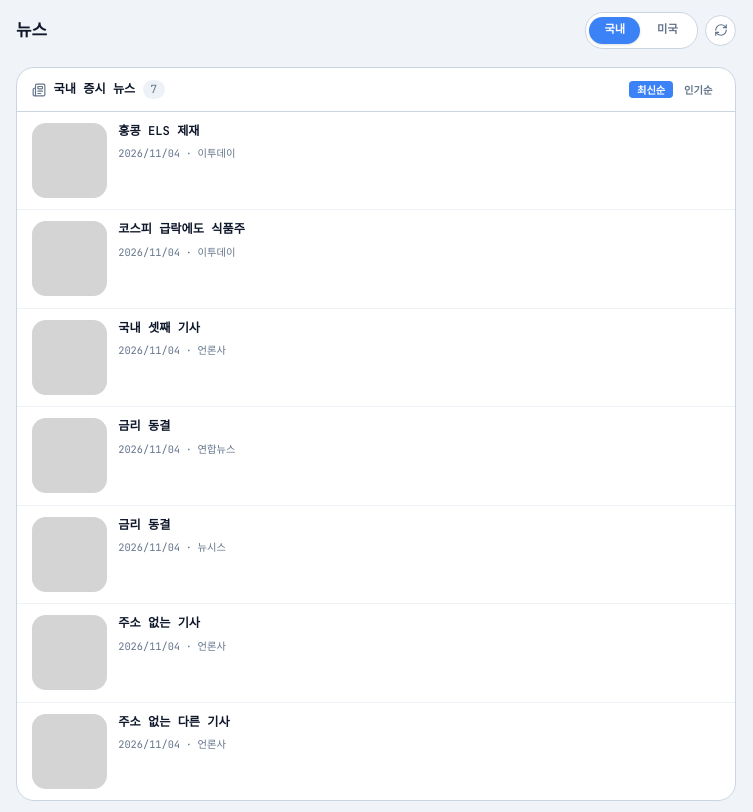
it: 국내·미국을 오가도 기사가 안 섞인다 › 정렬을 바꿔도 앞 목록이 안 남는다
Click the tab "미국": point(667, 30) [642,17,693,44]
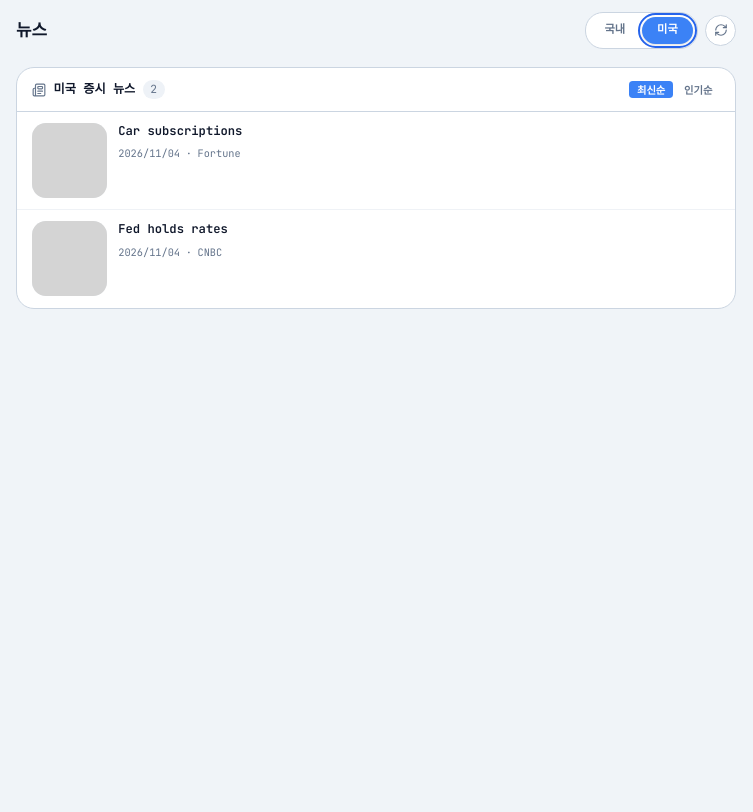
Check: the text "Car subscriptions" is shown, box [118,123,242,139]
Click the button "인기순": point(698, 90) [677,81,720,98]
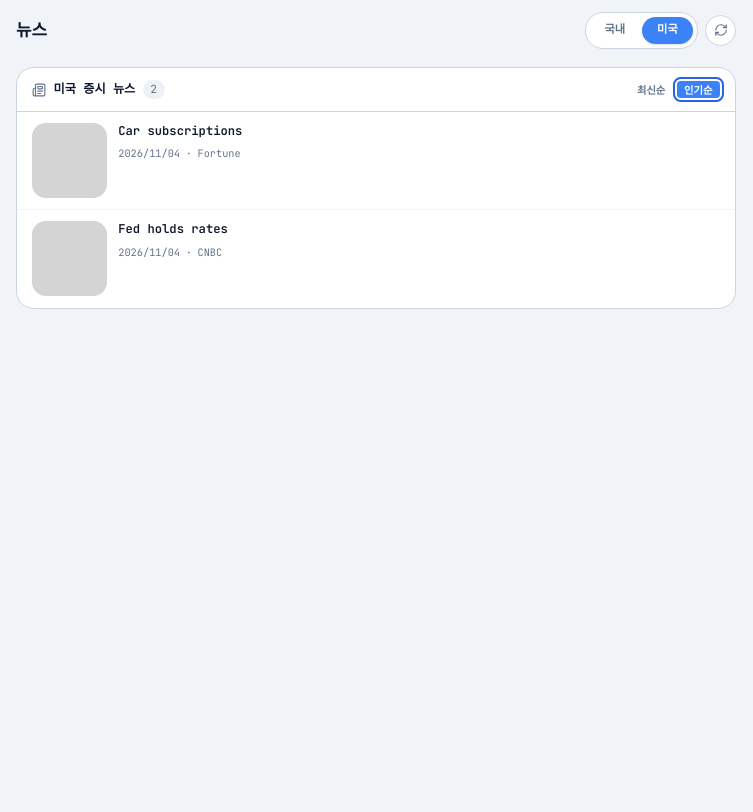
Click the tab "국내": point(615, 30) [590,17,640,44]
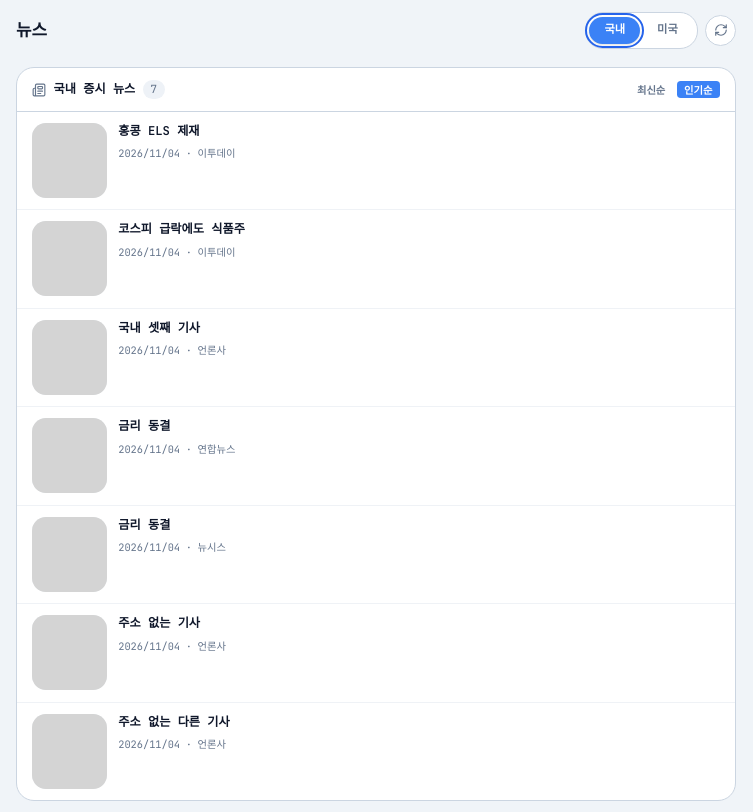
Click the button "최신순": point(651, 90) [629,81,673,98]
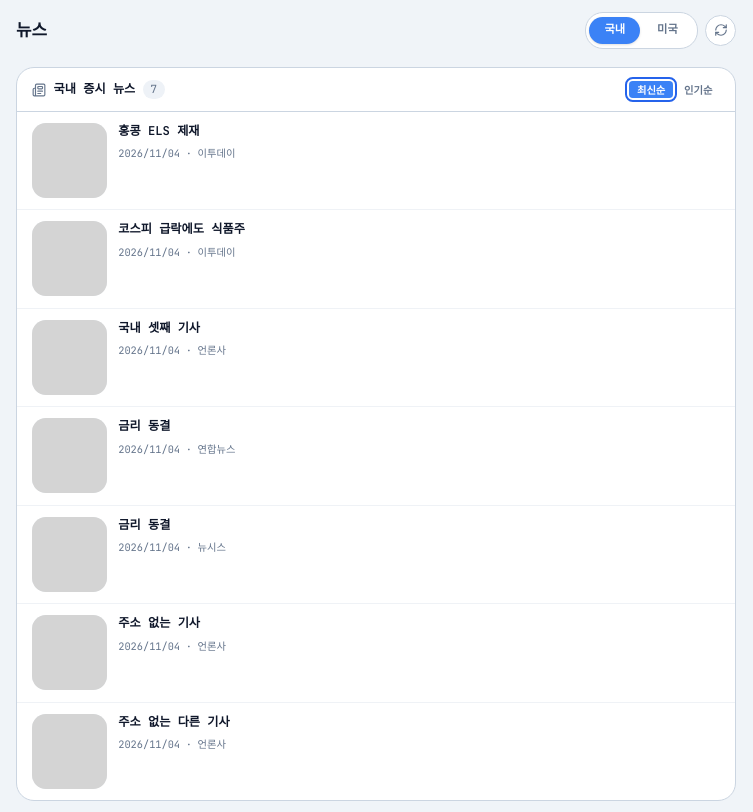
Click the tab "미국": point(667, 30) [642,17,693,44]
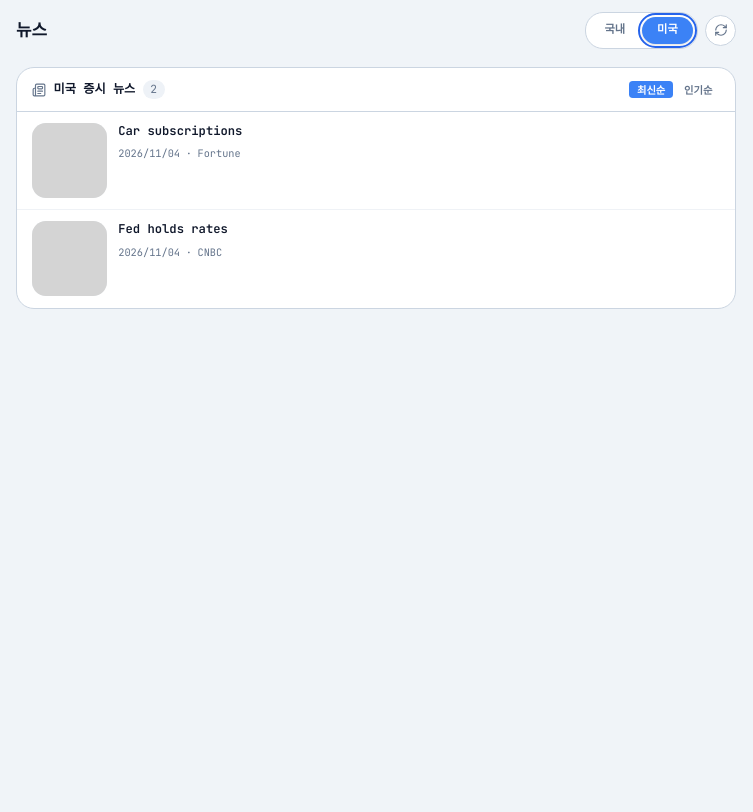
Check: the text "Car subscriptions" is shown, box [118,123,242,139]
Check: the link "홍콩 ELS 제재" is gone
Check: the link "코스피 급락에도 식품주" is gone
